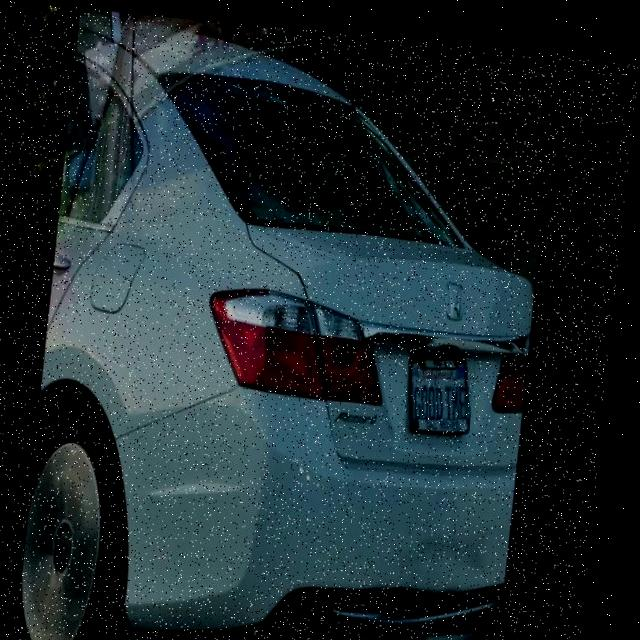LicensePlate: (417, 348, 478, 420)
